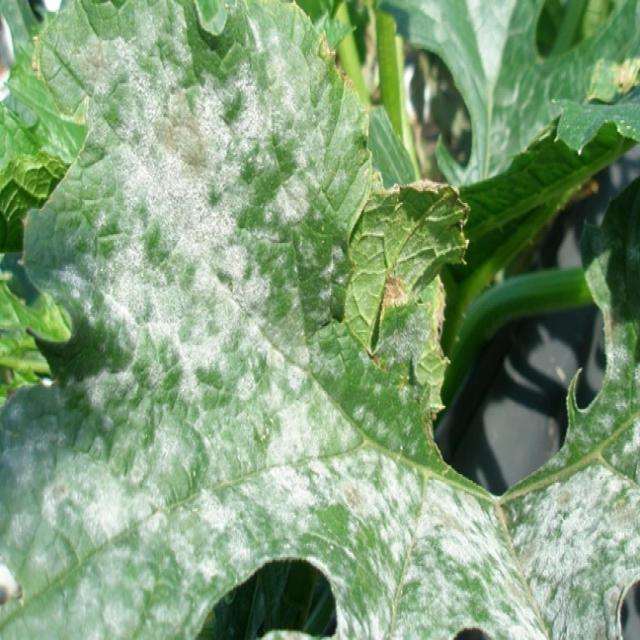Powdery Mildew: (2, 2, 636, 637)
